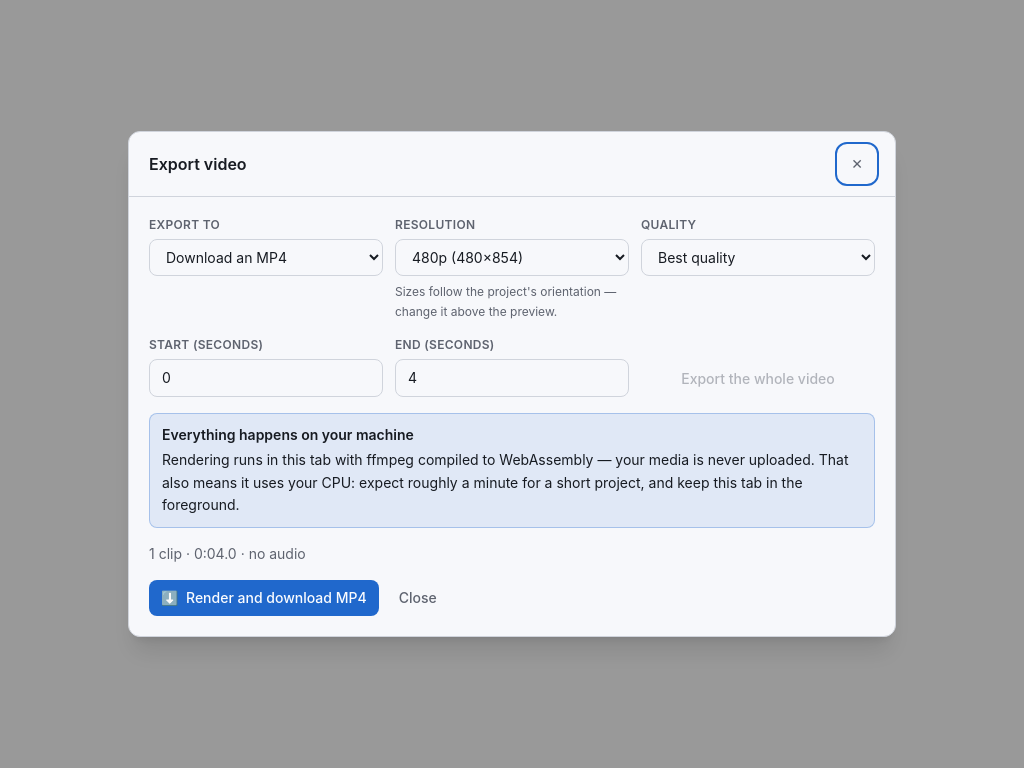
Test: choosing a start and an end › puts the whole video back, including from a range that does not add up
Replace the text in the number field labelled "End (seconds)" with "9" at {"x": 512, "y": 378}, box [395,359,629,397]
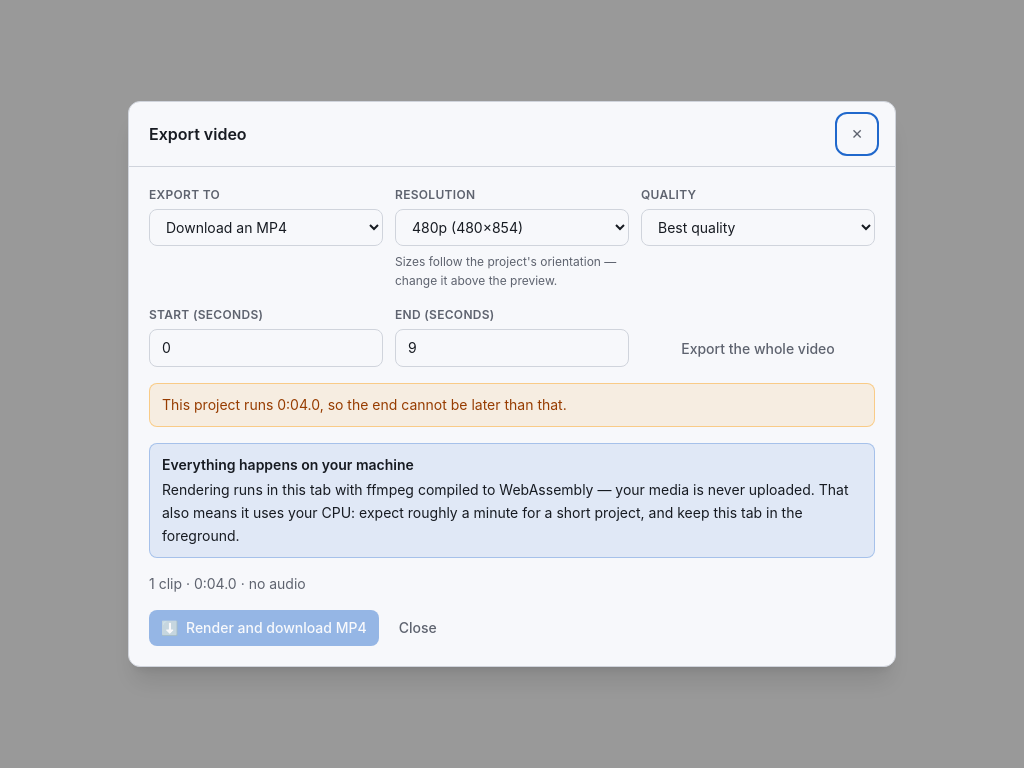
Click the button "Export the whole video" at {"x": 758, "y": 349}, box [641,331,875,367]
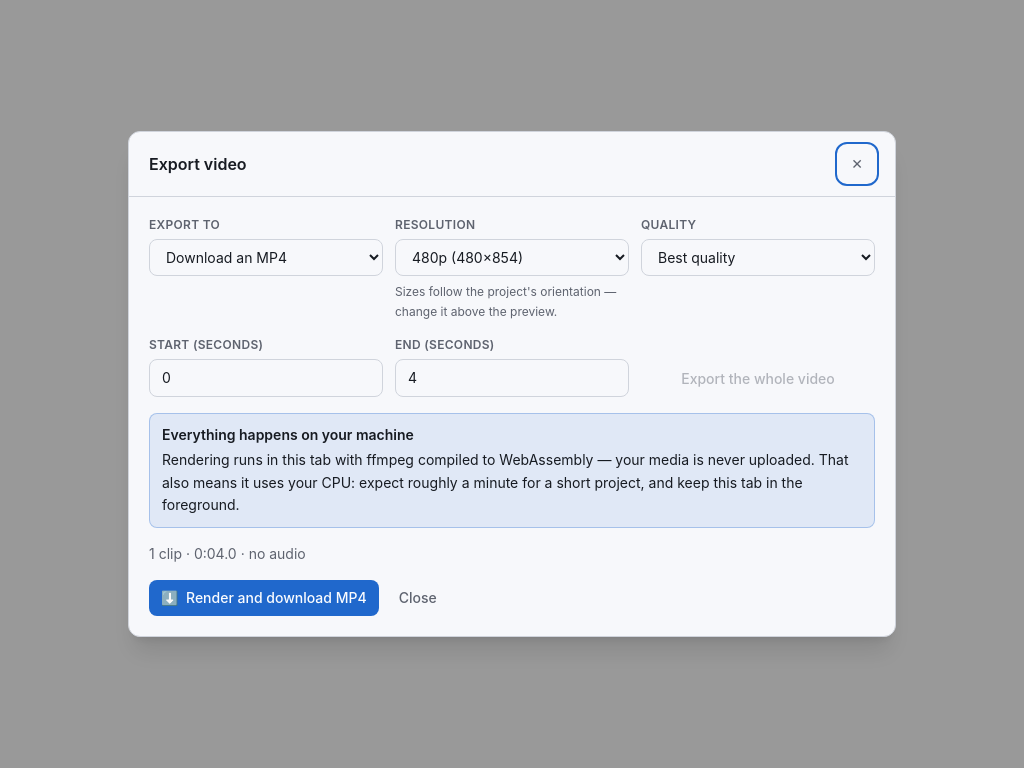
Expected: the number field labelled "Start (seconds)" holds "0", [149,359,383,397]
Now the number field labelled "End (seconds)" holds "4", box [395,359,629,397]
Now the text "runs 0:04.0" is gone
